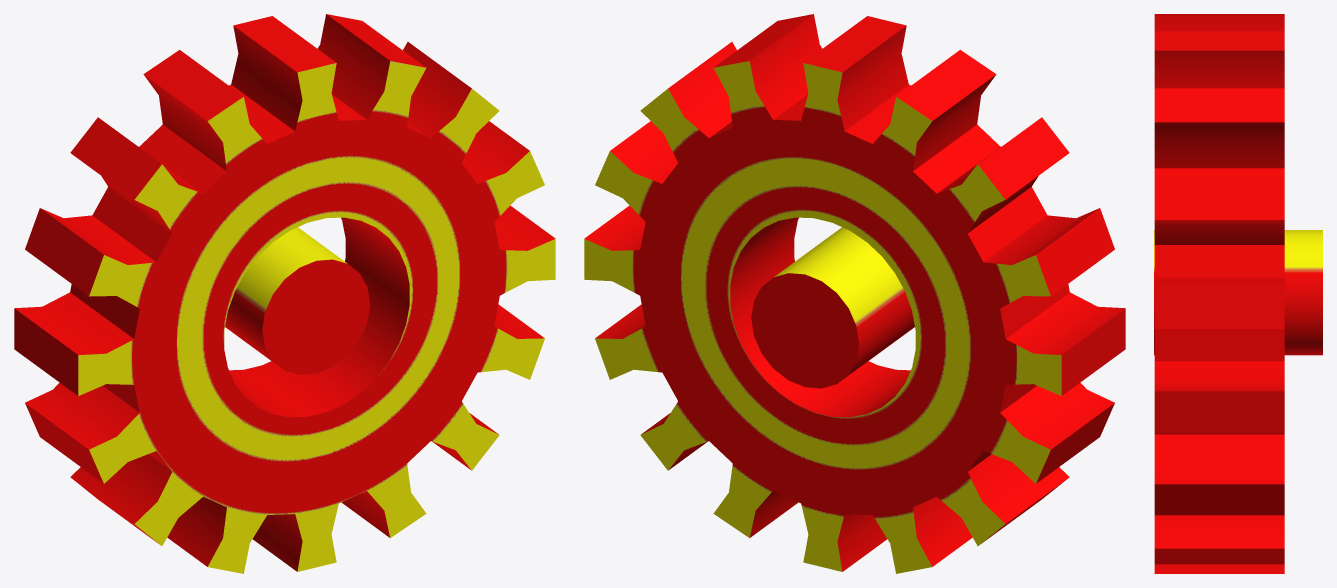
File: UV_gearBig4.fbx
3 renders of one model, left to right at view 1: azimuth 30°, elevation 25°; view 2: azimuth 150°, elevation 25°; view 3: azimuth 270°, elevation 25°, orthographic.
Visible parts, largest first — view 1: gearBig4; view 2: gearBig4; view 3: gearBig4.
Part boxes in pixels (left/top/right/bottom): gearBig4: left=14, top=14, right=555, bottom=573; gearBig4: left=584, top=14, right=1125, bottom=573; gearBig4: left=1154, top=14, right=1322, bottom=573.
Bounding box in the file's own units: 11.13 × 11.13 × 3.37.
1 material, 1 textured.
